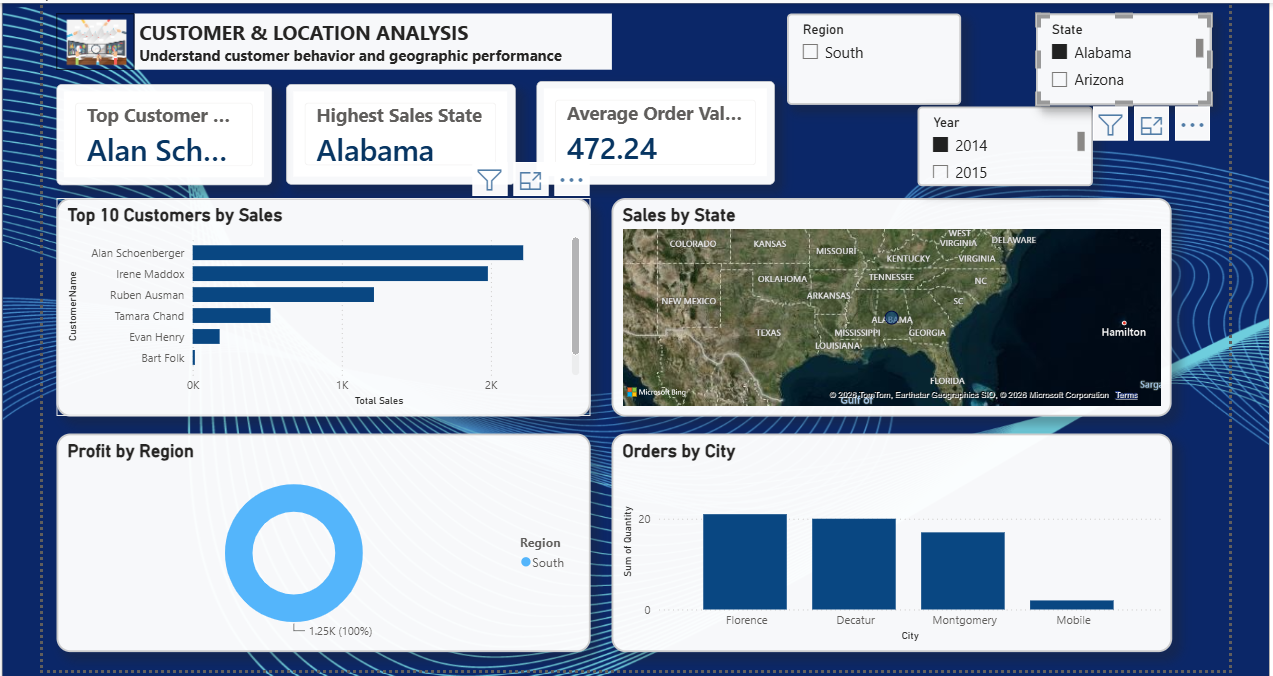

Layout of this report page (visuals, bound fields, positions):
{"tool":"powerbi","page":{"name":"Customer & Location Analysis","canvas":[1280,720],"ordinal":2},"visuals":[{"type":"textbox","box":[98.6,11.1,515.4,60.4],"z":0},{"type":"image","box":[14.3,11.1,84.3,60.4],"z":1000},{"type":"cardVisual","fields":{"Data":["FactSales.Average Order Value"]},"box":[532.7,84.2,257.5,111.7],"z":2000},{"type":"cardVisual","fields":{"Data":["DimLocation.Highest Sales State"]},"box":[262.3,87.4,247.7,108.5],"z":3000},{"type":"cardVisual","fields":{"Data":["DimCustomer.Top Customer Name"]},"box":[15.1,86.9,232.4,109.6],"z":4000},{"type":"clusteredBarChart","title":"Top 10 Customers by Sales","fields":{"Category":["DimCustomer.CustomerName"],"Y":["FactSales.Total Sales"]},"box":[15.1,209.8,576.4,236.2],"z":5000},{"type":"map","title":"Sales by State","fields":{"Category":["DimLocation.State"],"Size":["FactSales.Total Sales"]},"box":[614.2,209.8,604.7,236.2],"z":6000},{"type":"donutChart","title":"Profit by Region","fields":{"Category":["DimLocation.Region"],"Y":["FactSales.Total Profit"]},"box":[15.1,464.9,576.4,236.2],"z":7000},{"type":"columnChart","title":"Orders by City","fields":{"Category":["DimLocation.City"],"Y":["Sum(FactSales.Quantity)"]},"box":[614,465,605,236],"z":8000},{"type":"slicer","fields":{"Values":["DimLocation.Region"]},"box":[803.1,11.3,187.8,98.8],"z":9000},{"type":"slicer","fields":{"Values":["DimDate.Year"]},"box":[944,111.7,189.4,85.8],"z":10000},{"type":"slicer","fields":{"Values":["DimLocation.State"]},"box":[1071.9,11.3,189.4,98.8],"z":11000}]}

Visuals, with their boxes in screenshot pixels (x1, y1, x2, y2):
textbox: l=131, t=10, r=609, b=66
image: l=53, t=10, r=131, b=66
cardVisual - FactSales.Average Order Value: l=533, t=78, r=772, b=181
cardVisual - DimLocation.Highest Sales State: l=283, t=81, r=512, b=181
cardVisual - DimCustomer.Top Customer Name: l=54, t=80, r=269, b=182
"Top 10 Customers by Sales" clusteredBarChart: l=54, t=194, r=588, b=413
"Sales by State" map: l=609, t=194, r=1169, b=413
"Profit by Region" donutChart: l=54, t=431, r=588, b=649
"Orders by City" columnChart: l=609, t=431, r=1169, b=649
slicer - DimLocation.Region: l=784, t=10, r=958, b=102
slicer - DimDate.Year: l=914, t=103, r=1090, b=183
slicer - DimLocation.State: l=1033, t=10, r=1208, b=102
